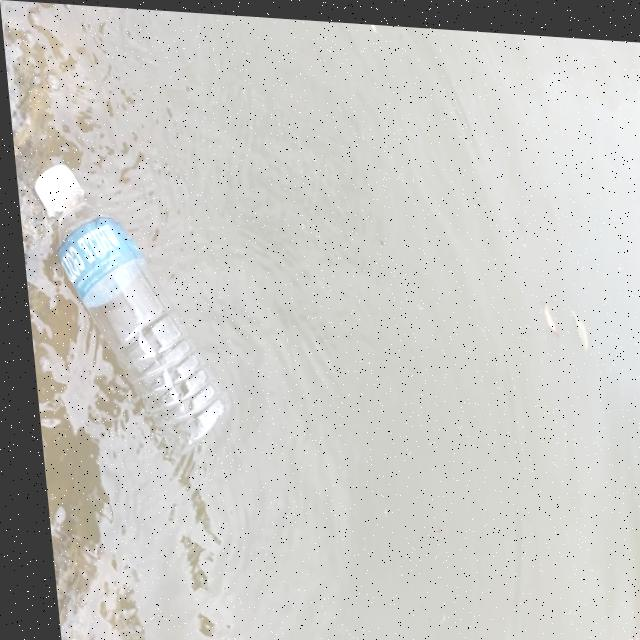waterbottle: (17, 144, 234, 454)
